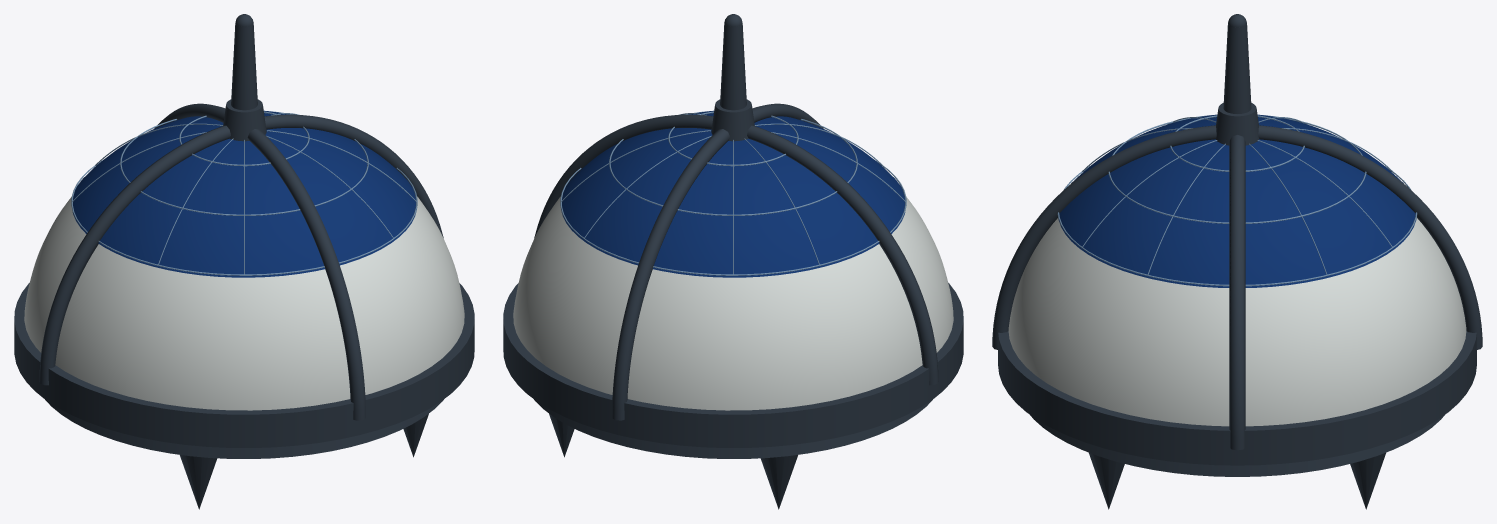
Rendered from skymesh-node.glb.
3 renders of one model, left to right at view 1: azimuth 30°, elevation 25°; view 2: azimuth 150°, elevation 25°; view 3: azimuth 270°, elevation 25°, orthographic. The views are drawn at different scales.
Visible parts, largest first — view 1: Acoustic fabric dome, Solar cap, Rugged base chassis, Protective rib 3, Protective rib 2, Sealed underside, Protective rib 1, Radio antenna, Solar cell seam (×2), Antenna collar, Mounting foot 2, Protective rib 4; view 2: Acoustic fabric dome, Solar cap, Rugged base chassis, Protective rib 3, Protective rib 4, Sealed underside, Protective rib 1, Radio antenna, Solar cell seam (×2), Antenna collar, Mounting foot 3, Protective rib 2; view 3: Acoustic fabric dome, Solar cap, Rugged base chassis, Protective rib 1, Protective rib 2, Protective rib 4, Sealed underside, Radio antenna, Solar cell seam (×2), Antenna collar, Mounting foot 1, Mounting foot 4.
Part boxes in pixels (<box>): Acoustic fabric dome: <box>24,196,464,410</box>; Solar cap: <box>72,110,416,277</box>; Rugged base chassis: <box>14,283,474,447</box>; Protective rib 3: <box>39,125,230,385</box>; Protective rib 2: <box>247,129,365,420</box>; Sealed underside: <box>45,399,443,458</box>; Protective rib 1: <box>264,114,443,237</box>; Radio antenna: <box>231,24,257,110</box>; Solar cell seam (×2): <box>71,111,417,275</box>; Antenna collar: <box>223,99,266,141</box>; Mounting foot 2: <box>180,455,217,509</box>; Protective rib 4: <box>154,103,225,128</box>; Acoustic fabric dome: <box>513,196,953,410</box>; Solar cap: <box>561,110,905,277</box>; Rugged base chassis: <box>503,283,963,447</box>; Protective rib 3: <box>747,125,938,385</box>; Protective rib 4: <box>612,129,730,420</box>; Sealed underside: <box>534,399,932,458</box>; Protective rib 1: <box>534,114,713,237</box>; Radio antenna: <box>720,24,746,110</box>; Solar cell seam (×2): <box>560,111,906,275</box>; Antenna collar: <box>711,99,754,141</box>; Mounting foot 3: <box>760,455,797,509</box>; Protective rib 2: <box>752,103,823,128</box>; Acoustic fabric dome: <box>1008,218,1466,426</box>; Solar cap: <box>1058,114,1416,287</box>; Rugged base chassis: <box>998,331,1476,465</box>; Protective rib 1: <box>1229,135,1245,450</box>; Protective rib 2: <box>992,125,1216,349</box>; Protective rib 4: <box>1258,125,1482,349</box>; Sealed underside: <box>1030,415,1444,476</box>; Radio antenna: <box>1223,24,1251,113</box>; Solar cell seam (×2): <box>1057,115,1417,286</box>; Antenna collar: <box>1215,103,1259,145</box>; Mounting foot 1: <box>1089,452,1124,509</box>; Mounting foot 4: <box>1350,452,1385,509</box>.
Size of the model in its own units: 0.1024 by 0.1015 by 0.1024.
